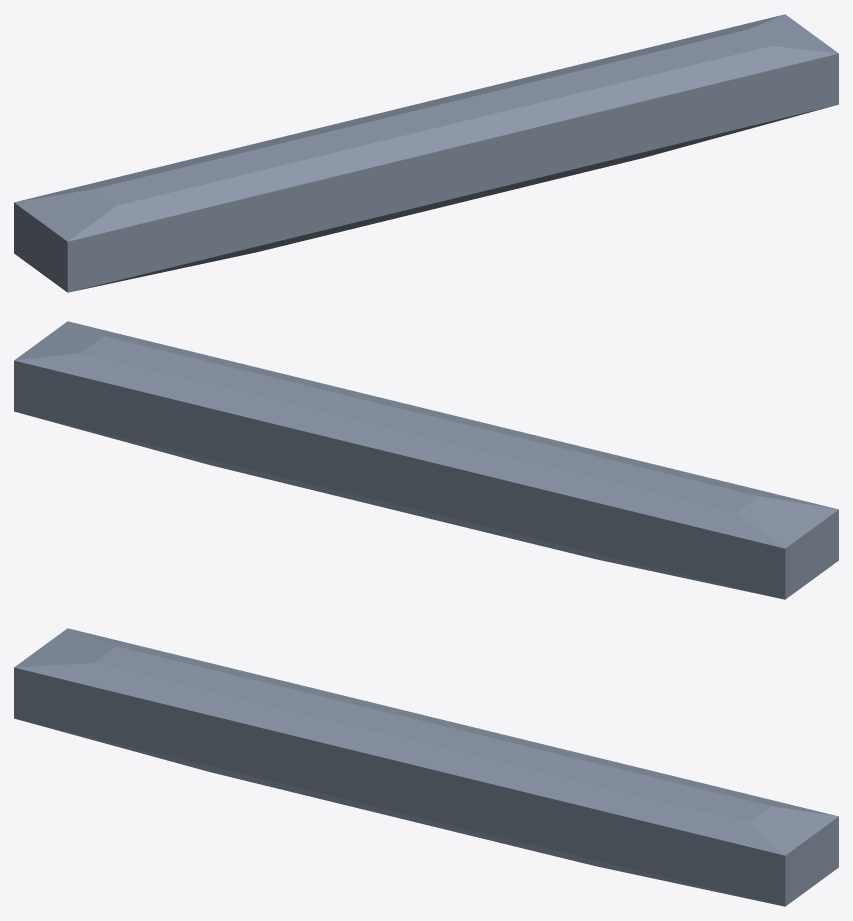
The model's file is 6_Rock.fbx.
The picture shows the model from 3 angles, top to bottom: view 1: azimuth 30°, elevation 25°; view 2: azimuth 150°, elevation 25°; view 3: azimuth 330°, elevation 25°; orthographic projection.
Parts seen in each view (by area): view 1: pasted__pCube37; view 2: pasted__pCube37; view 3: pasted__pCube37.
Boxes of the visible parts, x1=… form: pasted__pCube37: x1=14, y1=14, x2=838, y2=292; pasted__pCube37: x1=14, y1=321, x2=838, y2=599; pasted__pCube37: x1=14, y1=628, x2=838, y2=906.
Size of the model in its own units: 4.77 by 0.407 by 0.5756.
